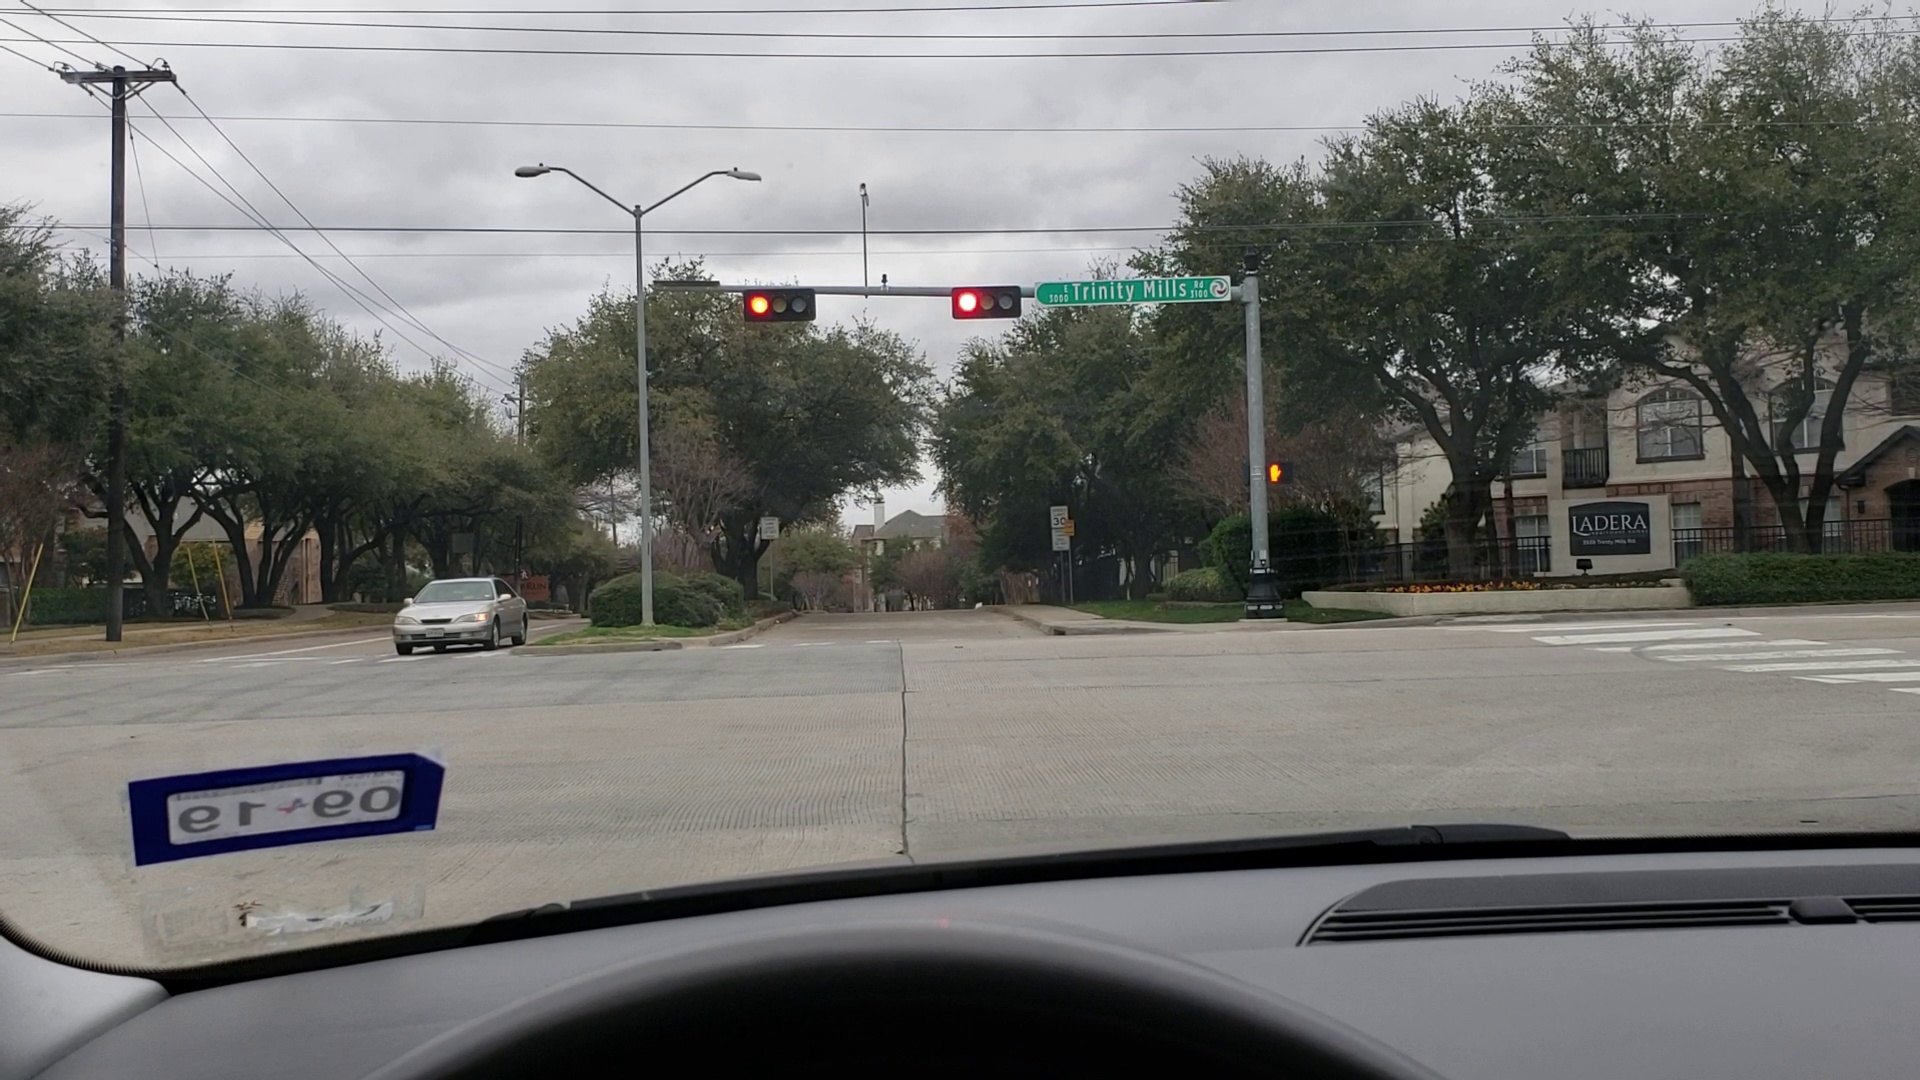car: (382, 570, 535, 655)
traffic light: (742, 289, 819, 323), (951, 286, 1023, 320)
